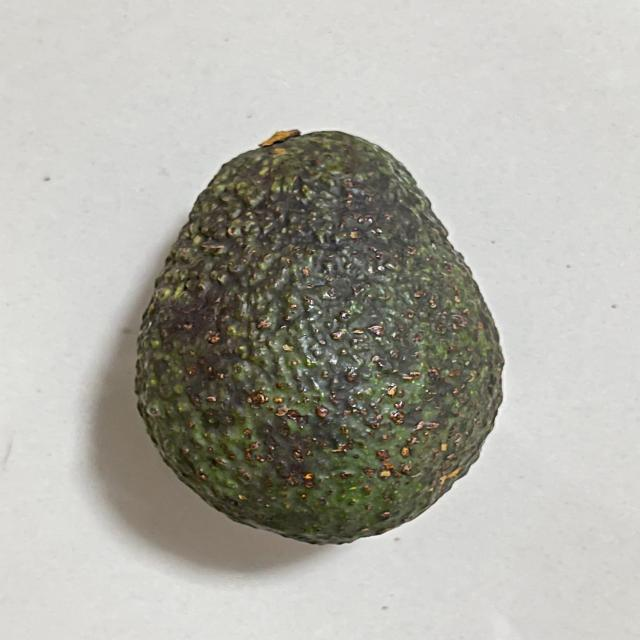Level1: (118, 111, 525, 554)
